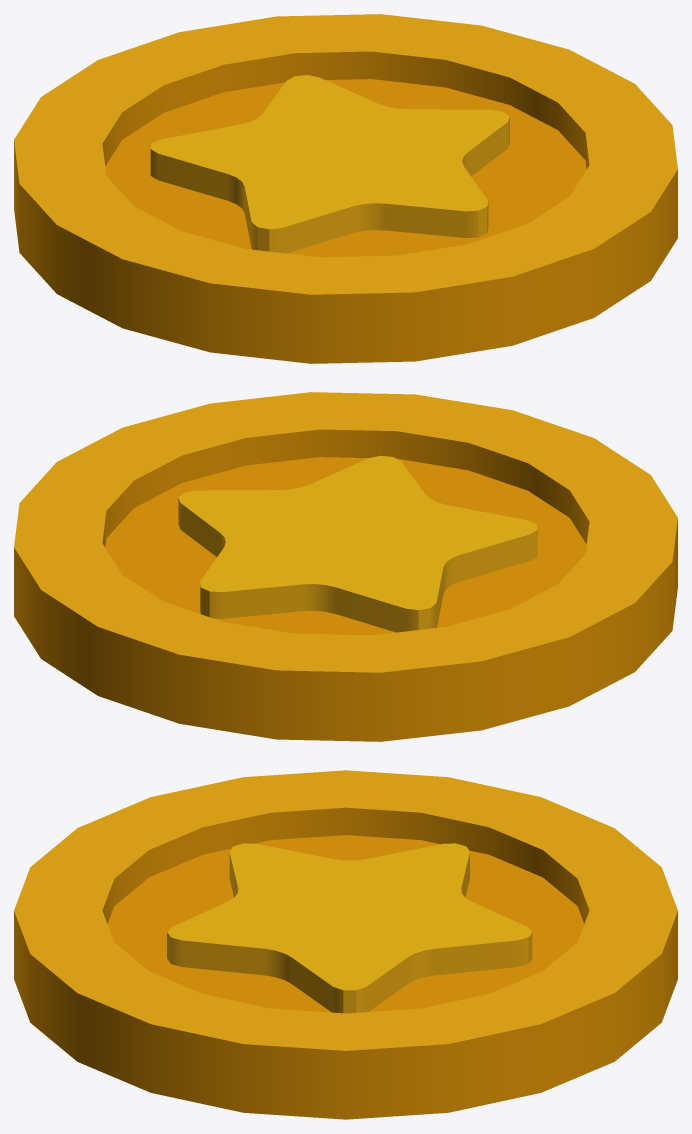
File: coin_orange_not_yellow.fbx
3 views of the same model, one above another, from view 1: azimuth 30°, elevation 25°; view 2: azimuth 150°, elevation 25°; view 3: azimuth 270°, elevation 25° (orthographic).
Parts seen in each view (by area): view 1: coin; view 2: coin; view 3: coin.
Boxes of the visible parts, left/top/right/bottom form: coin: left=14, top=14, right=677, bottom=363; coin: left=14, top=392, right=677, bottom=741; coin: left=14, top=770, right=677, bottom=1119.
Size of the model in its own units: 145 by 16.59 by 145.
